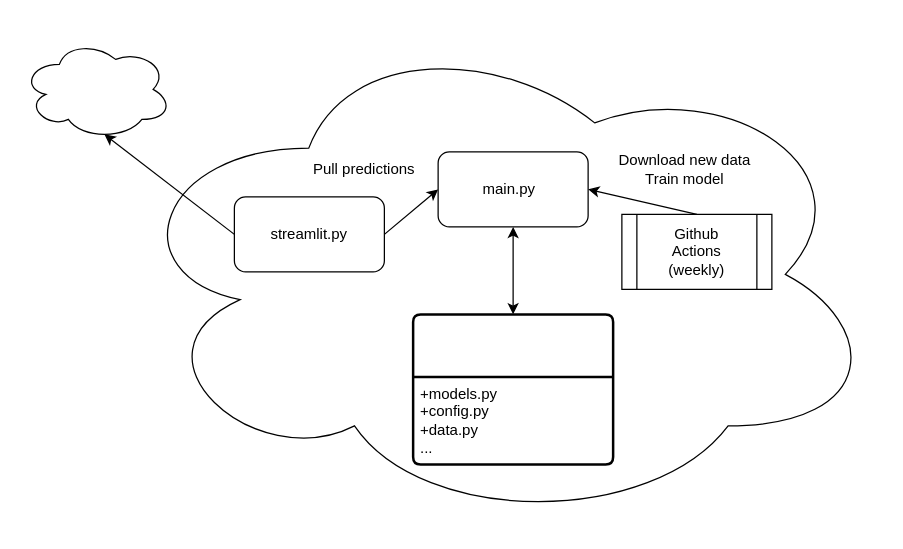
This 903x549 diagram has some shape labels left out. The box of each missing label's shape, as (x1, y1, x2, y2) in pixels:
/src: (411, 312, 614, 465)
Streamlit Demo: (21, 38, 172, 139)
